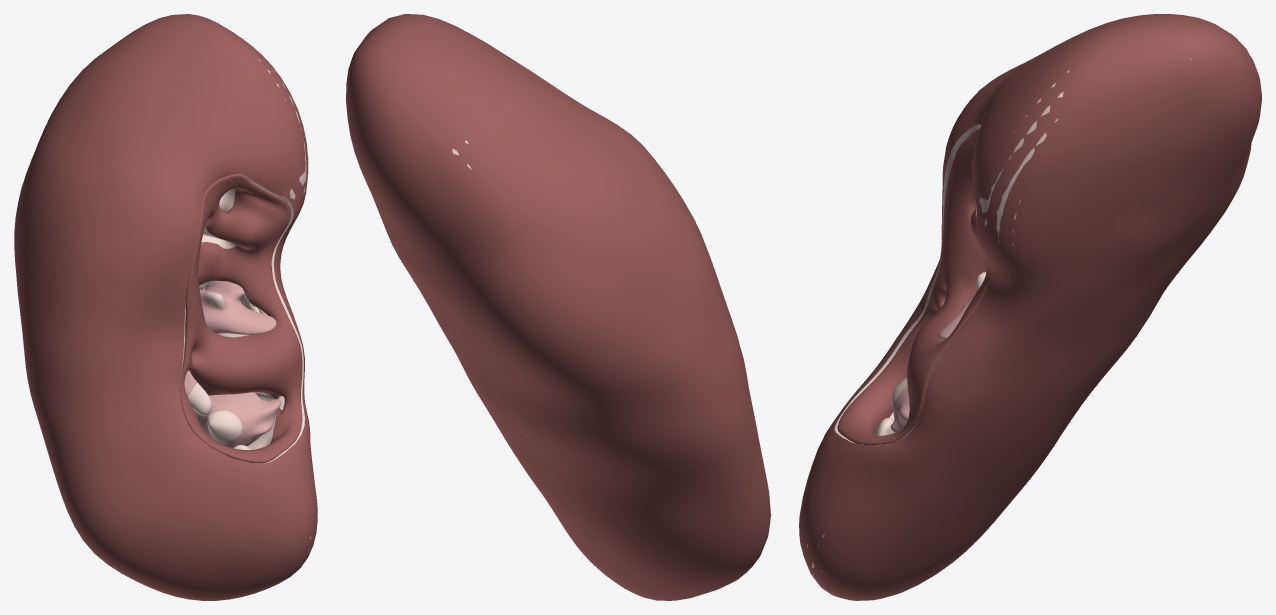
The model's file is kidney-r.glb.
3 views of the same model, side by side, from view 1: azimuth 30°, elevation 25°; view 2: azimuth 150°, elevation 25°; view 3: azimuth 270°, elevation 25° (orthographic). The views are drawn at different scales.
Parts seen in each view (by area): view 1: VH_M_kidney_capsule_R, VH_M_hilum_of_kidney_R, VH_M_renal_pyramid_f, VH_M_renal_pyramid_h, VH_M_outer_cortex_of_kidney_R, VH_M_renal_column_R, VH_M_renal_papilla_R_h, VH_M_renal_papilla_R_g; view 2: VH_M_kidney_capsule_R; view 3: VH_M_kidney_capsule_R, VH_M_hilum_of_kidney_R, VH_M_outer_cortex_of_kidney_R, VH_M_renal_pyramid_h.
Boxes of the visible parts, x1,y1,x2,y2 form: VH_M_kidney_capsule_R: (14, 14, 317, 600); VH_M_hilum_of_kidney_R: (180, 173, 302, 463); VH_M_renal_pyramid_f: (199, 281, 276, 334); VH_M_renal_pyramid_h: (197, 392, 280, 448); VH_M_outer_cortex_of_kidney_R: (89, 59, 317, 564); VH_M_renal_column_R: (199, 188, 276, 449); VH_M_renal_papilla_R_h: (207, 410, 242, 441); VH_M_renal_papilla_R_g: (188, 382, 212, 415); VH_M_kidney_capsule_R: (346, 14, 770, 600); VH_M_kidney_capsule_R: (799, 14, 1261, 600); VH_M_hilum_of_kidney_R: (837, 128, 990, 445); VH_M_outer_cortex_of_kidney_R: (807, 47, 1191, 575); VH_M_renal_pyramid_h: (891, 384, 909, 432).
Bounding box in the file's own units: 0.0655 × 0.1125 × 0.0764.
